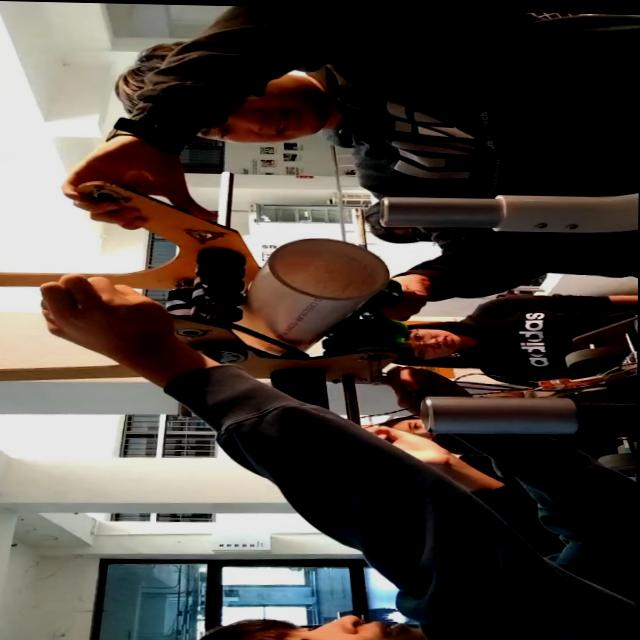CORAL: (223, 234, 392, 354)
